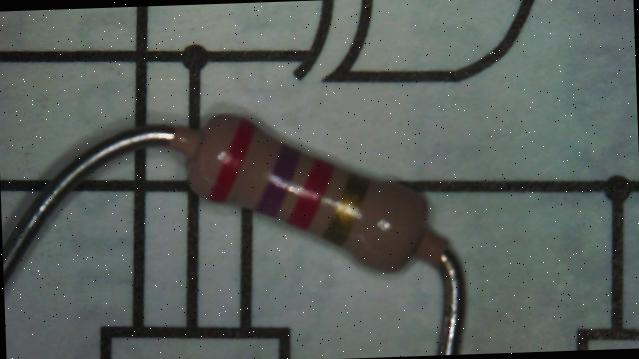gold: (317, 171, 372, 245)
red: (206, 118, 256, 202), (284, 157, 334, 230)
resistor: (159, 83, 469, 304)
violet: (254, 143, 302, 217)
